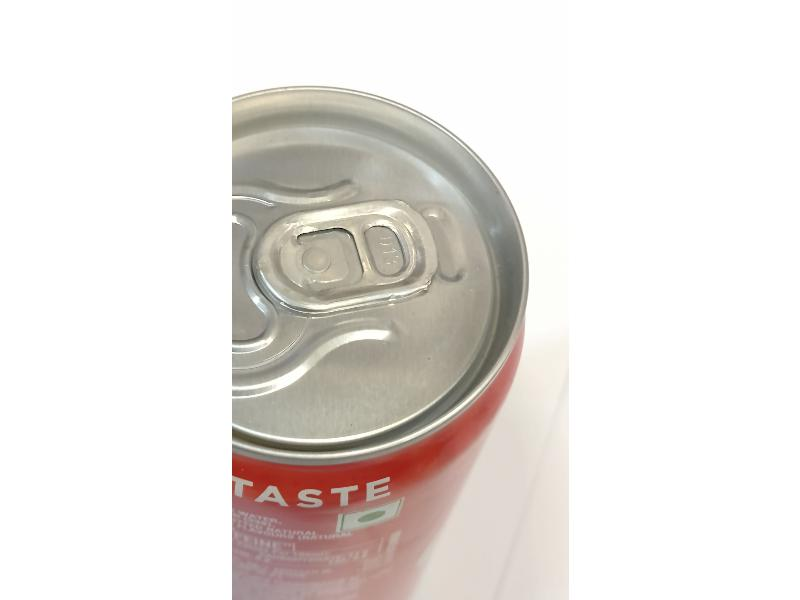can: (221, 84, 535, 590)
